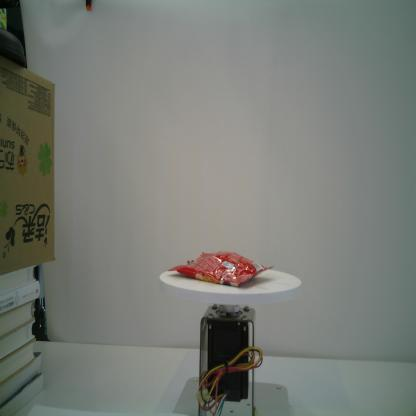Instant Drink: (165, 247, 275, 289)
